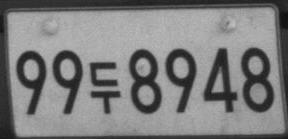4: (202, 46, 237, 112)
8: (127, 47, 163, 114), (240, 46, 274, 113)
9: (164, 47, 197, 114), (51, 48, 83, 115), (15, 49, 47, 115)
두: (88, 61, 120, 114)
